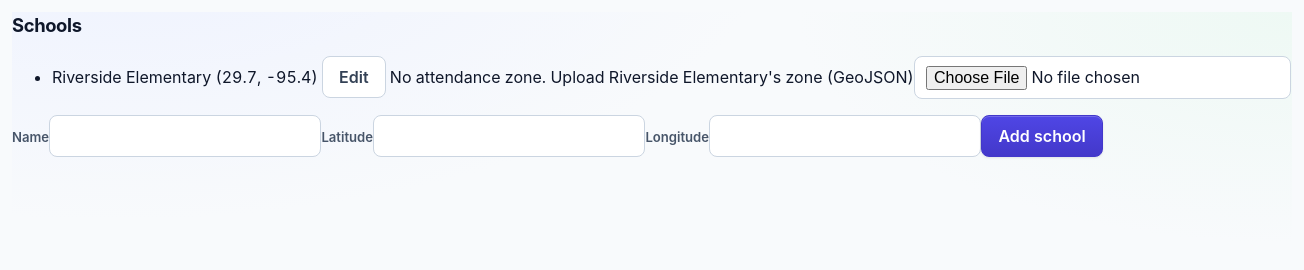
Test: SchoolsSection › shows the server error when saving fails
Click the button with aria-label "Edit Riverside Elementary".
click(354, 77)  # box [322,56,386,98]
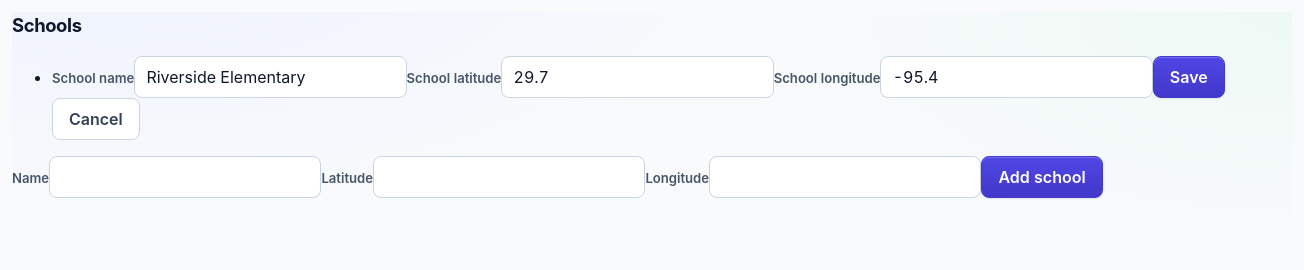
Click the button "Save".
click(1189, 77)  # box [1153,56,1225,98]
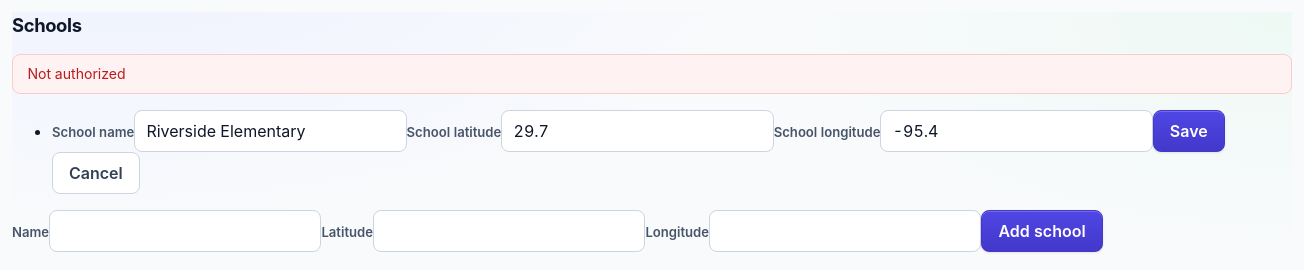
Expected: the message reads "Not authorized", [27,66,126,82]
